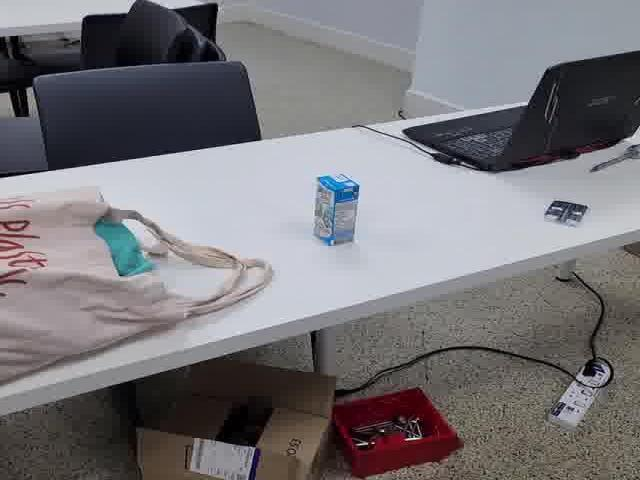drink_box: (308, 166, 365, 250)
